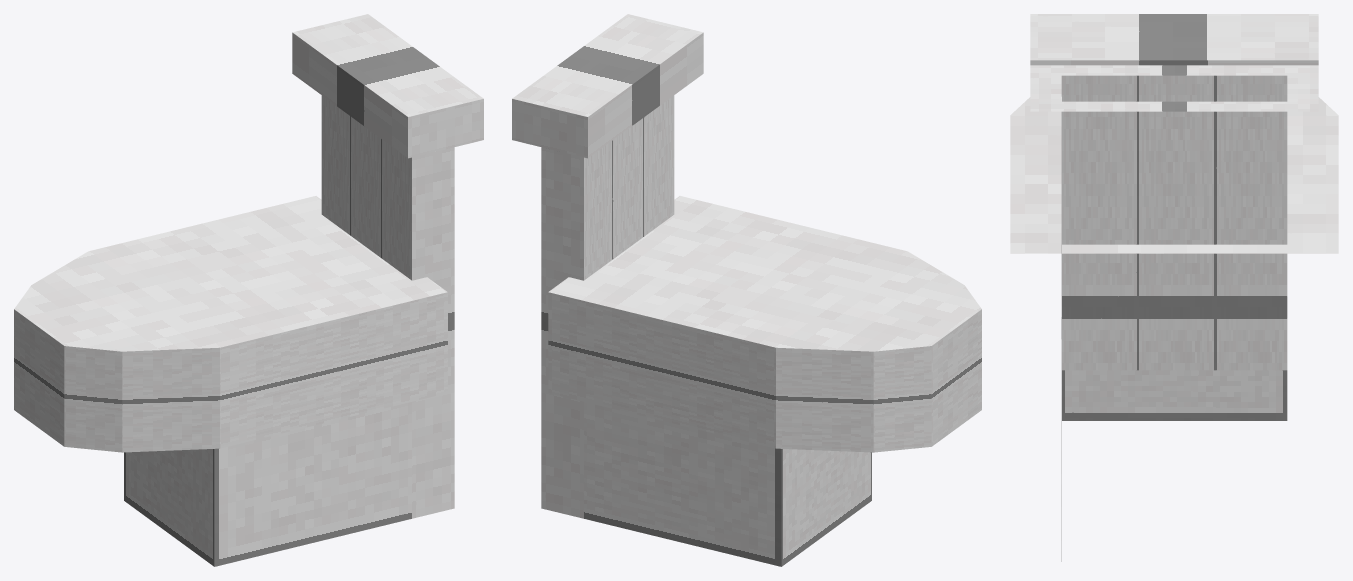
Rendered from BLOCKUGON_TOILET.fbx.
3 renders of one model, left to right at view 1: azimuth 30°, elevation 25°; view 2: azimuth 150°, elevation 25°; view 3: azimuth 270°, elevation 25°, orthographic. The views are drawn at different scales.
Parts seen in each view (by area): view 1: BLOCKUGON_TOILET; view 2: BLOCKUGON_TOILET; view 3: BLOCKUGON_TOILET.
Boxes of the visible parts, x1,y1,x2,y2 form: BLOCKUGON_TOILET: (14,14,483,566); BLOCKUGON_TOILET: (512,14,981,566); BLOCKUGON_TOILET: (1010,14,1338,561).
Bounding box in the file's own units: 141 × 145 × 83.15.
1 material, 1 textured.
